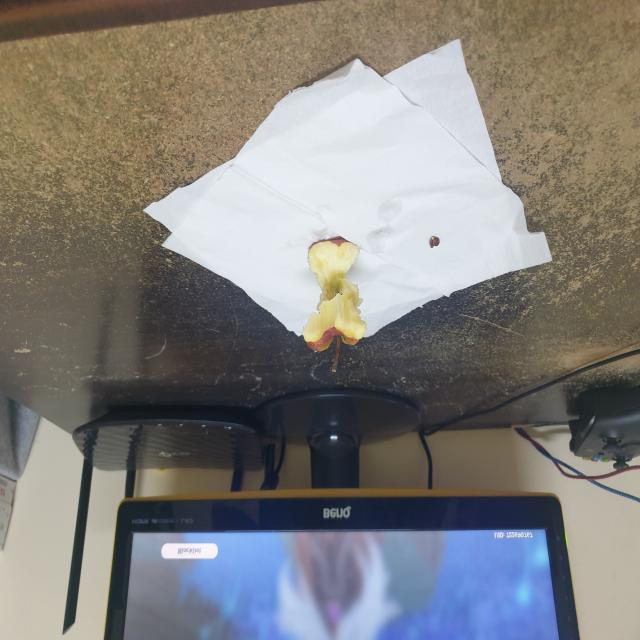apple: (300, 222, 376, 376)
